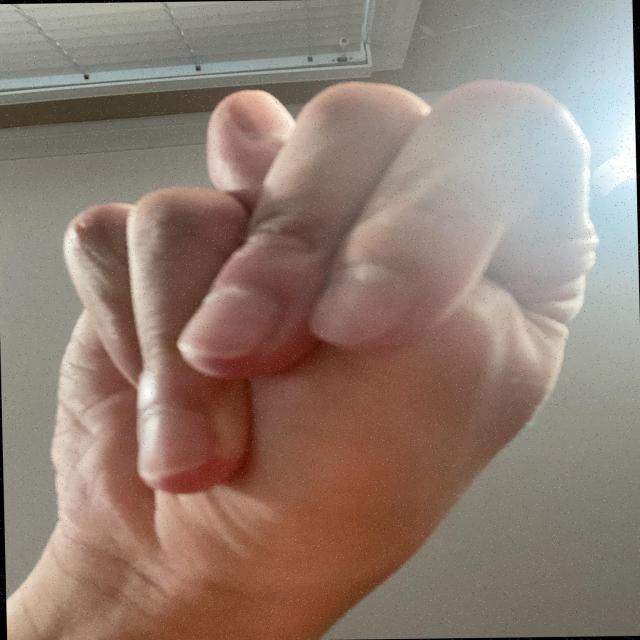N: (0, 67, 617, 627)
